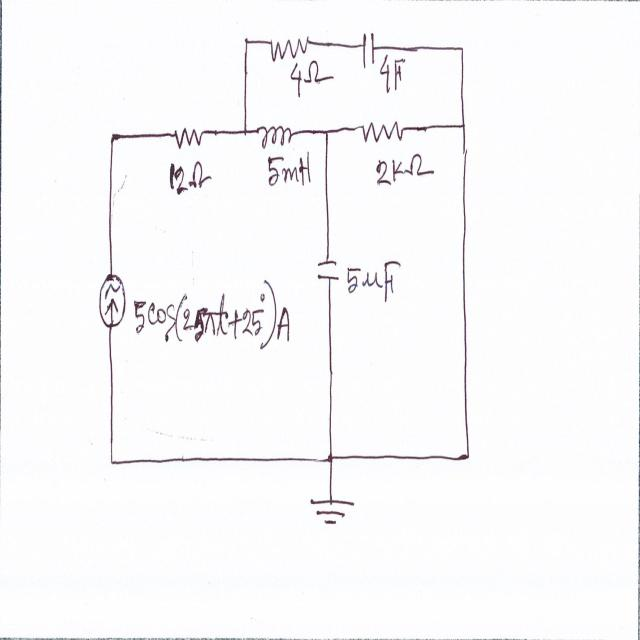capacitor: (313, 253, 343, 291), (361, 27, 376, 73)
current_source: (95, 270, 127, 329)
ground: (304, 492, 360, 534)
inductor: (253, 117, 297, 151)
resistor: (361, 106, 407, 145), (268, 32, 312, 63), (172, 117, 204, 156)
